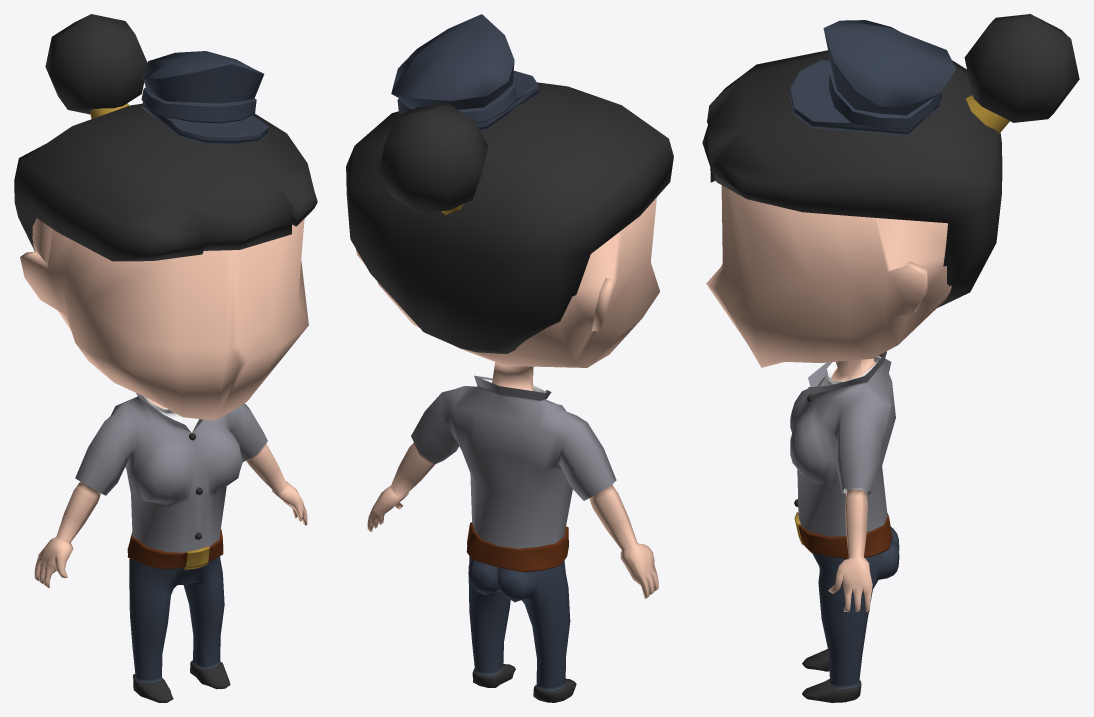
Rendered from Officer_Wen_Blockout 1.fbx.
3 views of the same model, side by side, from view 1: azimuth 30°, elevation 25°; view 2: azimuth 150°, elevation 25°; view 3: azimuth 270°, elevation 25° (orthographic). The views are drawn at different scales.
Visible parts, largest first — view 1: Wen base.003, Wenhair.003, policeshirt, hat.002, Wen's bun hair.002, belt.001; view 2: Wenhair.003, Wen base.003, policeshirt, hat.002, Wen's bun hair.002, belt.001; view 3: Wen base.003, Wenhair.003, hat.002, policeshirt, Wen's bun hair.002, belt.001, hair band.002.
Boxes of the visible parts, x1,y1,x2,y2 form: Wen base.003: (20, 218, 308, 702); Wenhair.003: (14, 103, 317, 261); policeshirt: (75, 393, 267, 552); hat.002: (141, 51, 268, 143); Wen's bun hair.002: (45, 14, 147, 114); belt.001: (127, 529, 223, 569); Wenhair.003: (346, 82, 673, 353); Wen base.003: (356, 197, 659, 702); policeshirt: (411, 375, 616, 548); hat.002: (391, 14, 539, 130); Wen's bun hair.002: (378, 104, 487, 213); belt.001: (466, 522, 568, 572); Wen base.003: (706, 185, 951, 702); Wenhair.003: (702, 50, 1002, 307); hat.002: (789, 20, 956, 135); policeshirt: (790, 351, 895, 536); Wen's bun hair.002: (964, 14, 1079, 122); belt.001: (794, 512, 892, 558); hair band.002: (965, 95, 1009, 134).
Bounding box in the file's own units: 233 × 523 × 264.
